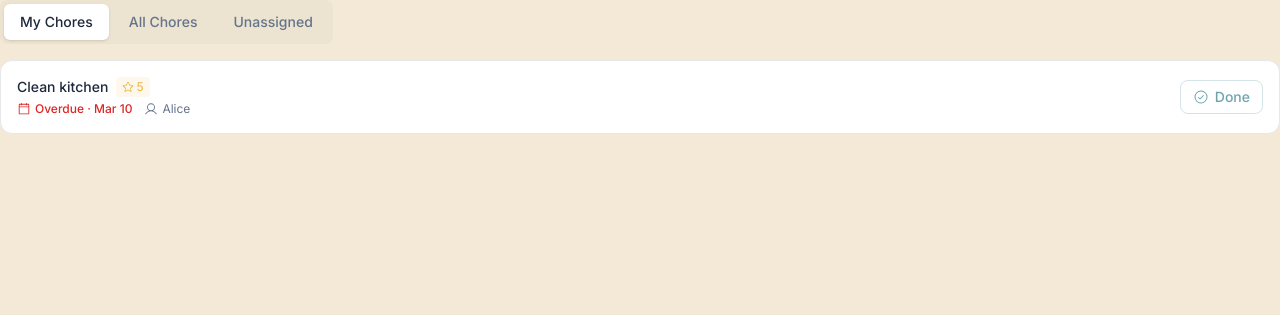
Scenario: ChoreBoard › shows all chores when All Chores tab is clicked
The image size is (1280, 315).
Click the button "All Chores" at (163,22), box [113,4,214,40]
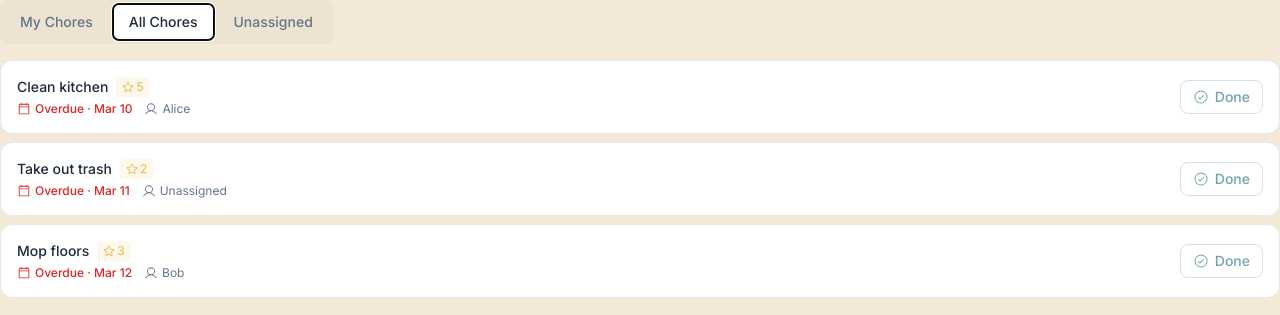
Expected: the heading "Clean kitchen" is shown, [17,77,108,97]
Expected: the heading "Take out trash" is shown, [17,159,112,179]
Expected: the heading "Mop floors" is shown, [17,241,89,261]
